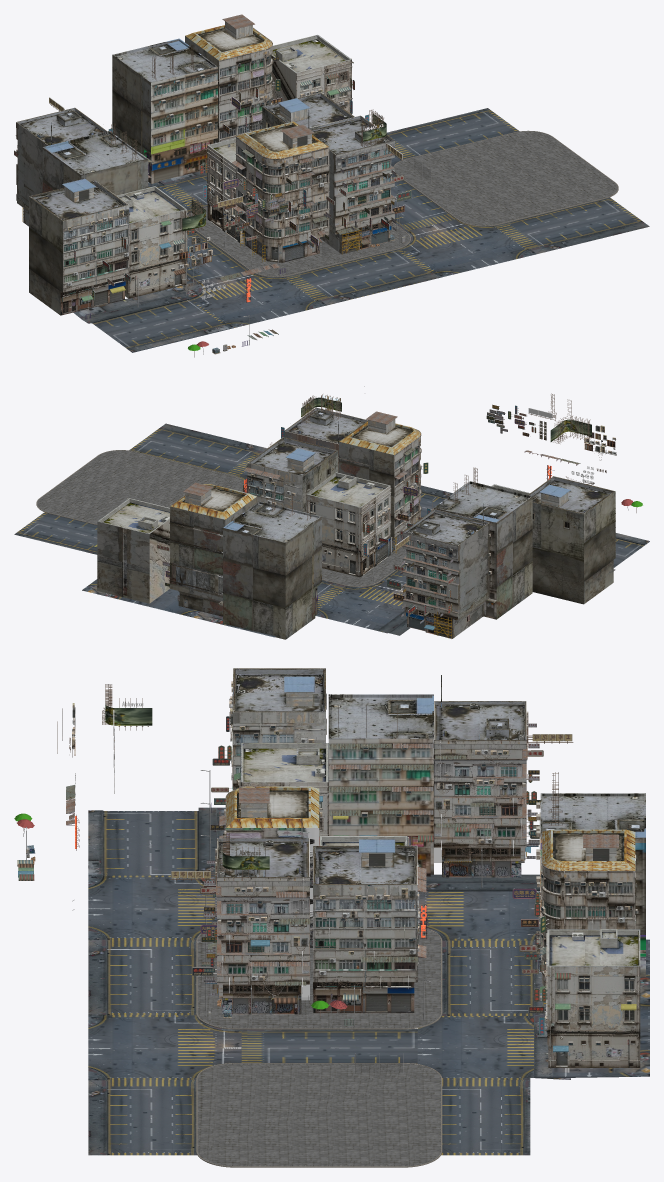
File: city.glb
3 renders of one model, top to bottom at view 1: azimuth 30°, elevation 25°; view 2: azimuth 150°, elevation 25°; view 3: azimuth 270°, elevation 25°, orthographic. The views are drawn at different scales.
Visible parts, largest first — view 1: Plane.024, Plane.002, Cube.011, Cube.004, Cube.008, Cube, Cube.003, Cube.002, Cube.009, Cube.013, Cube.012, Plane.001 (+2 smaller); view 2: Plane.024, Cube.011, Cube.012, Cube.004, Plane.002, Cube.003, Cube.009, Cube.005, Cube.013, Cube.008, Cube.001, Cube (+2 smaller); view 3: Plane.024, Plane.002, Cube.001, Cube.012, Cube, Cube.009, Cube.013, Cube.003, Cube.004, Plane.001, Cube.011, Cube.008 (+2 smaller).
Part boxes in pixels (x1,y1,x2,y2): Plane.024: [73, 108, 649, 352]; Plane.002: [393, 130, 618, 226]; Cube.011: [112, 38, 218, 183]; Cube.004: [29, 178, 130, 315]; Cube.008: [223, 121, 334, 262]; Cube: [308, 109, 411, 254]; Cube.003: [185, 14, 282, 143]; Cube.002: [116, 186, 194, 298]; Cube.009: [42, 123, 148, 195]; Cube.013: [271, 35, 354, 114]; Cube.012: [14, 97, 112, 226]; Plane.001: [187, 207, 410, 277]; Plane.024: [14, 423, 649, 637]; Cube.011: [218, 490, 322, 639]; Cube.012: [387, 503, 489, 638]; Cube.004: [528, 476, 615, 604]; Plane.002: [36, 450, 246, 525]; Cube.003: [157, 482, 257, 616]; Cube.009: [434, 467, 532, 619]; Cube.005: [306, 472, 391, 577]; Cube.013: [97, 498, 169, 603]; Cube.008: [338, 411, 428, 553]; Cube.001: [243, 437, 338, 512]; Cube: [281, 394, 367, 472]; Plane.024: [88, 807, 649, 1155]; Plane.002: [196, 1063, 442, 1167]; Cube.001: [313, 839, 427, 1013]; Cube.012: [433, 675, 573, 877]; Cube: [170, 812, 309, 1014]; Cube.009: [328, 694, 433, 876]; Cube.013: [528, 929, 640, 1068]; Cube.003: [512, 829, 635, 1006]; Cube.004: [211, 668, 326, 804]; Plane.001: [196, 926, 442, 1029]; Cube.011: [536, 772, 645, 976]; Cube.008: [200, 786, 319, 947].
Bounding box in the file's own units: 18.71 × 4 × 13.68.
51 materials, 35 textured.
